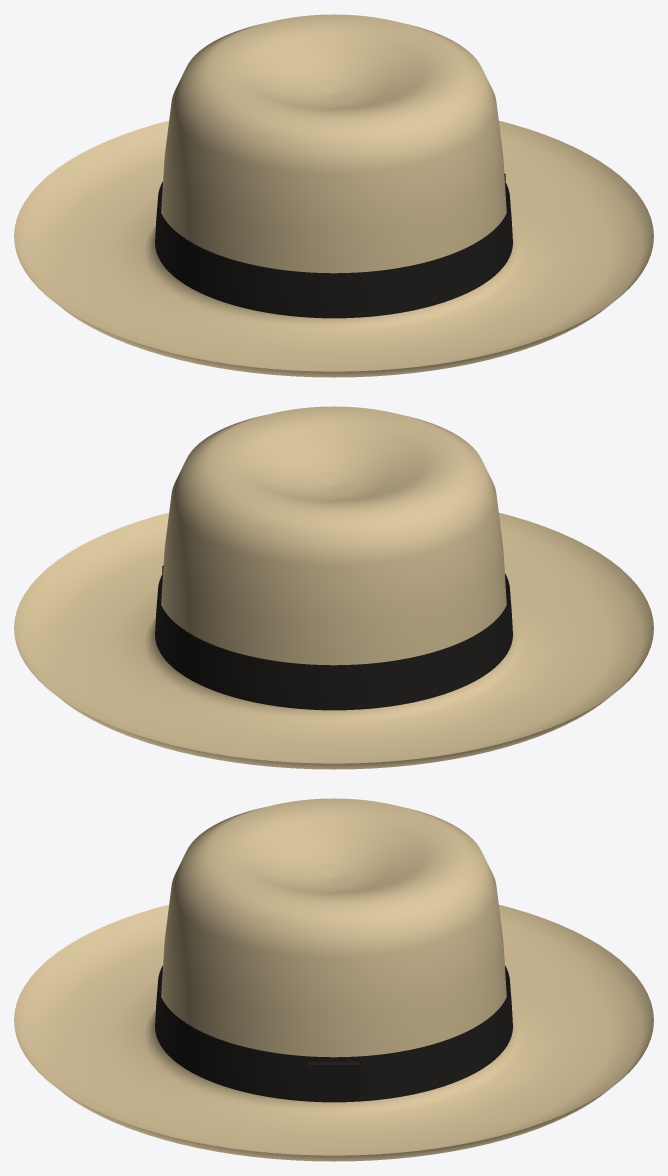
Rendered from sombrero-panama.glb.
The picture shows the model from 3 angles, top to bottom: view 1: azimuth 30°, elevation 25°; view 2: azimuth 150°, elevation 25°; view 3: azimuth 270°, elevation 25°; orthographic projection.
Visible parts, largest first — view 1: Copa y ala, Cinta; view 2: Copa y ala, Cinta; view 3: Copa y ala, Cinta, Moño.
Boxes of the visible parts, bbox=[...] form: Copa y ala: bbox=[14, 14, 653, 377]; Cinta: bbox=[155, 181, 512, 318]; Copa y ala: bbox=[14, 406, 653, 769]; Cinta: bbox=[155, 573, 512, 710]; Copa y ala: bbox=[14, 798, 653, 1161]; Cinta: bbox=[155, 965, 512, 1102]; Moño: bbox=[308, 1062, 359, 1099].
Bounding box in the file's own units: 0.37 × 0.12 × 0.37.
